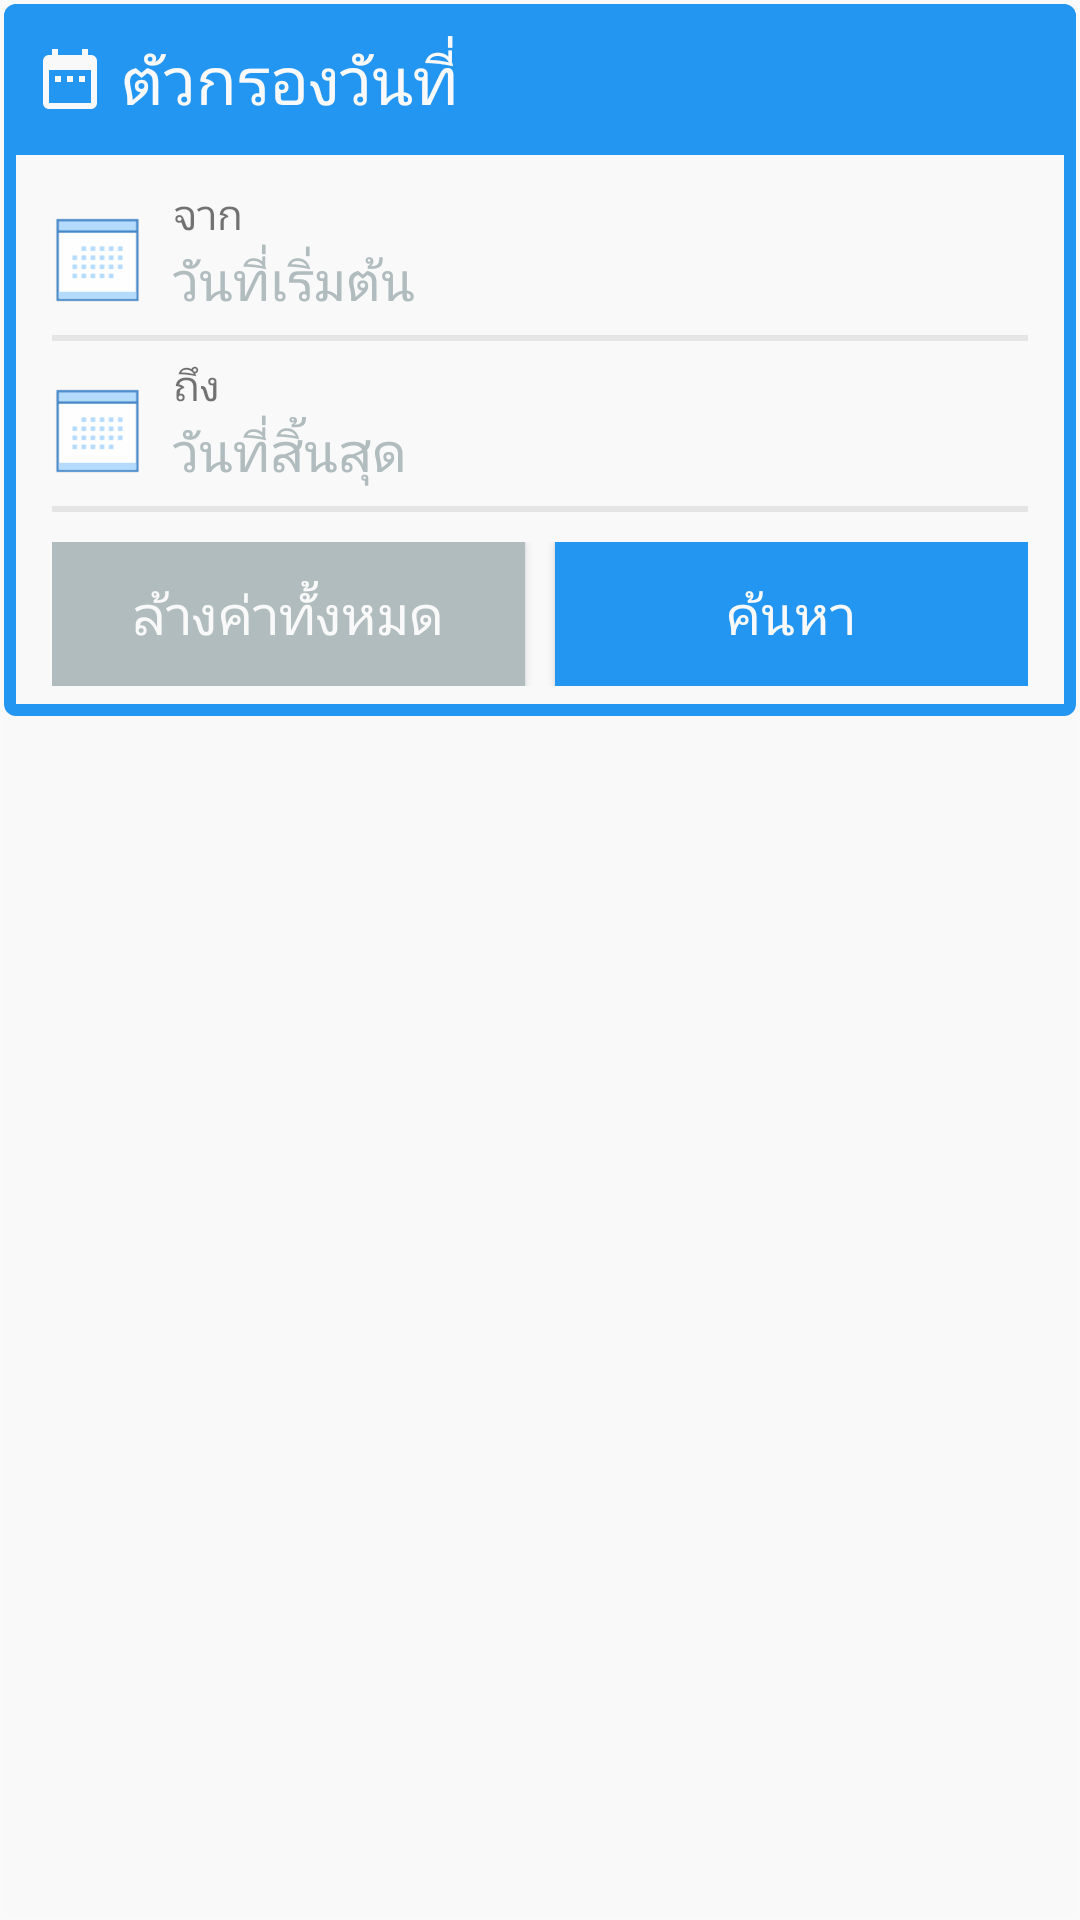

Where to tap for icons on this 1080*1920 app screen, as (x=x, y=y):
calendar: (x=97, y=260), (x=97, y=431)
